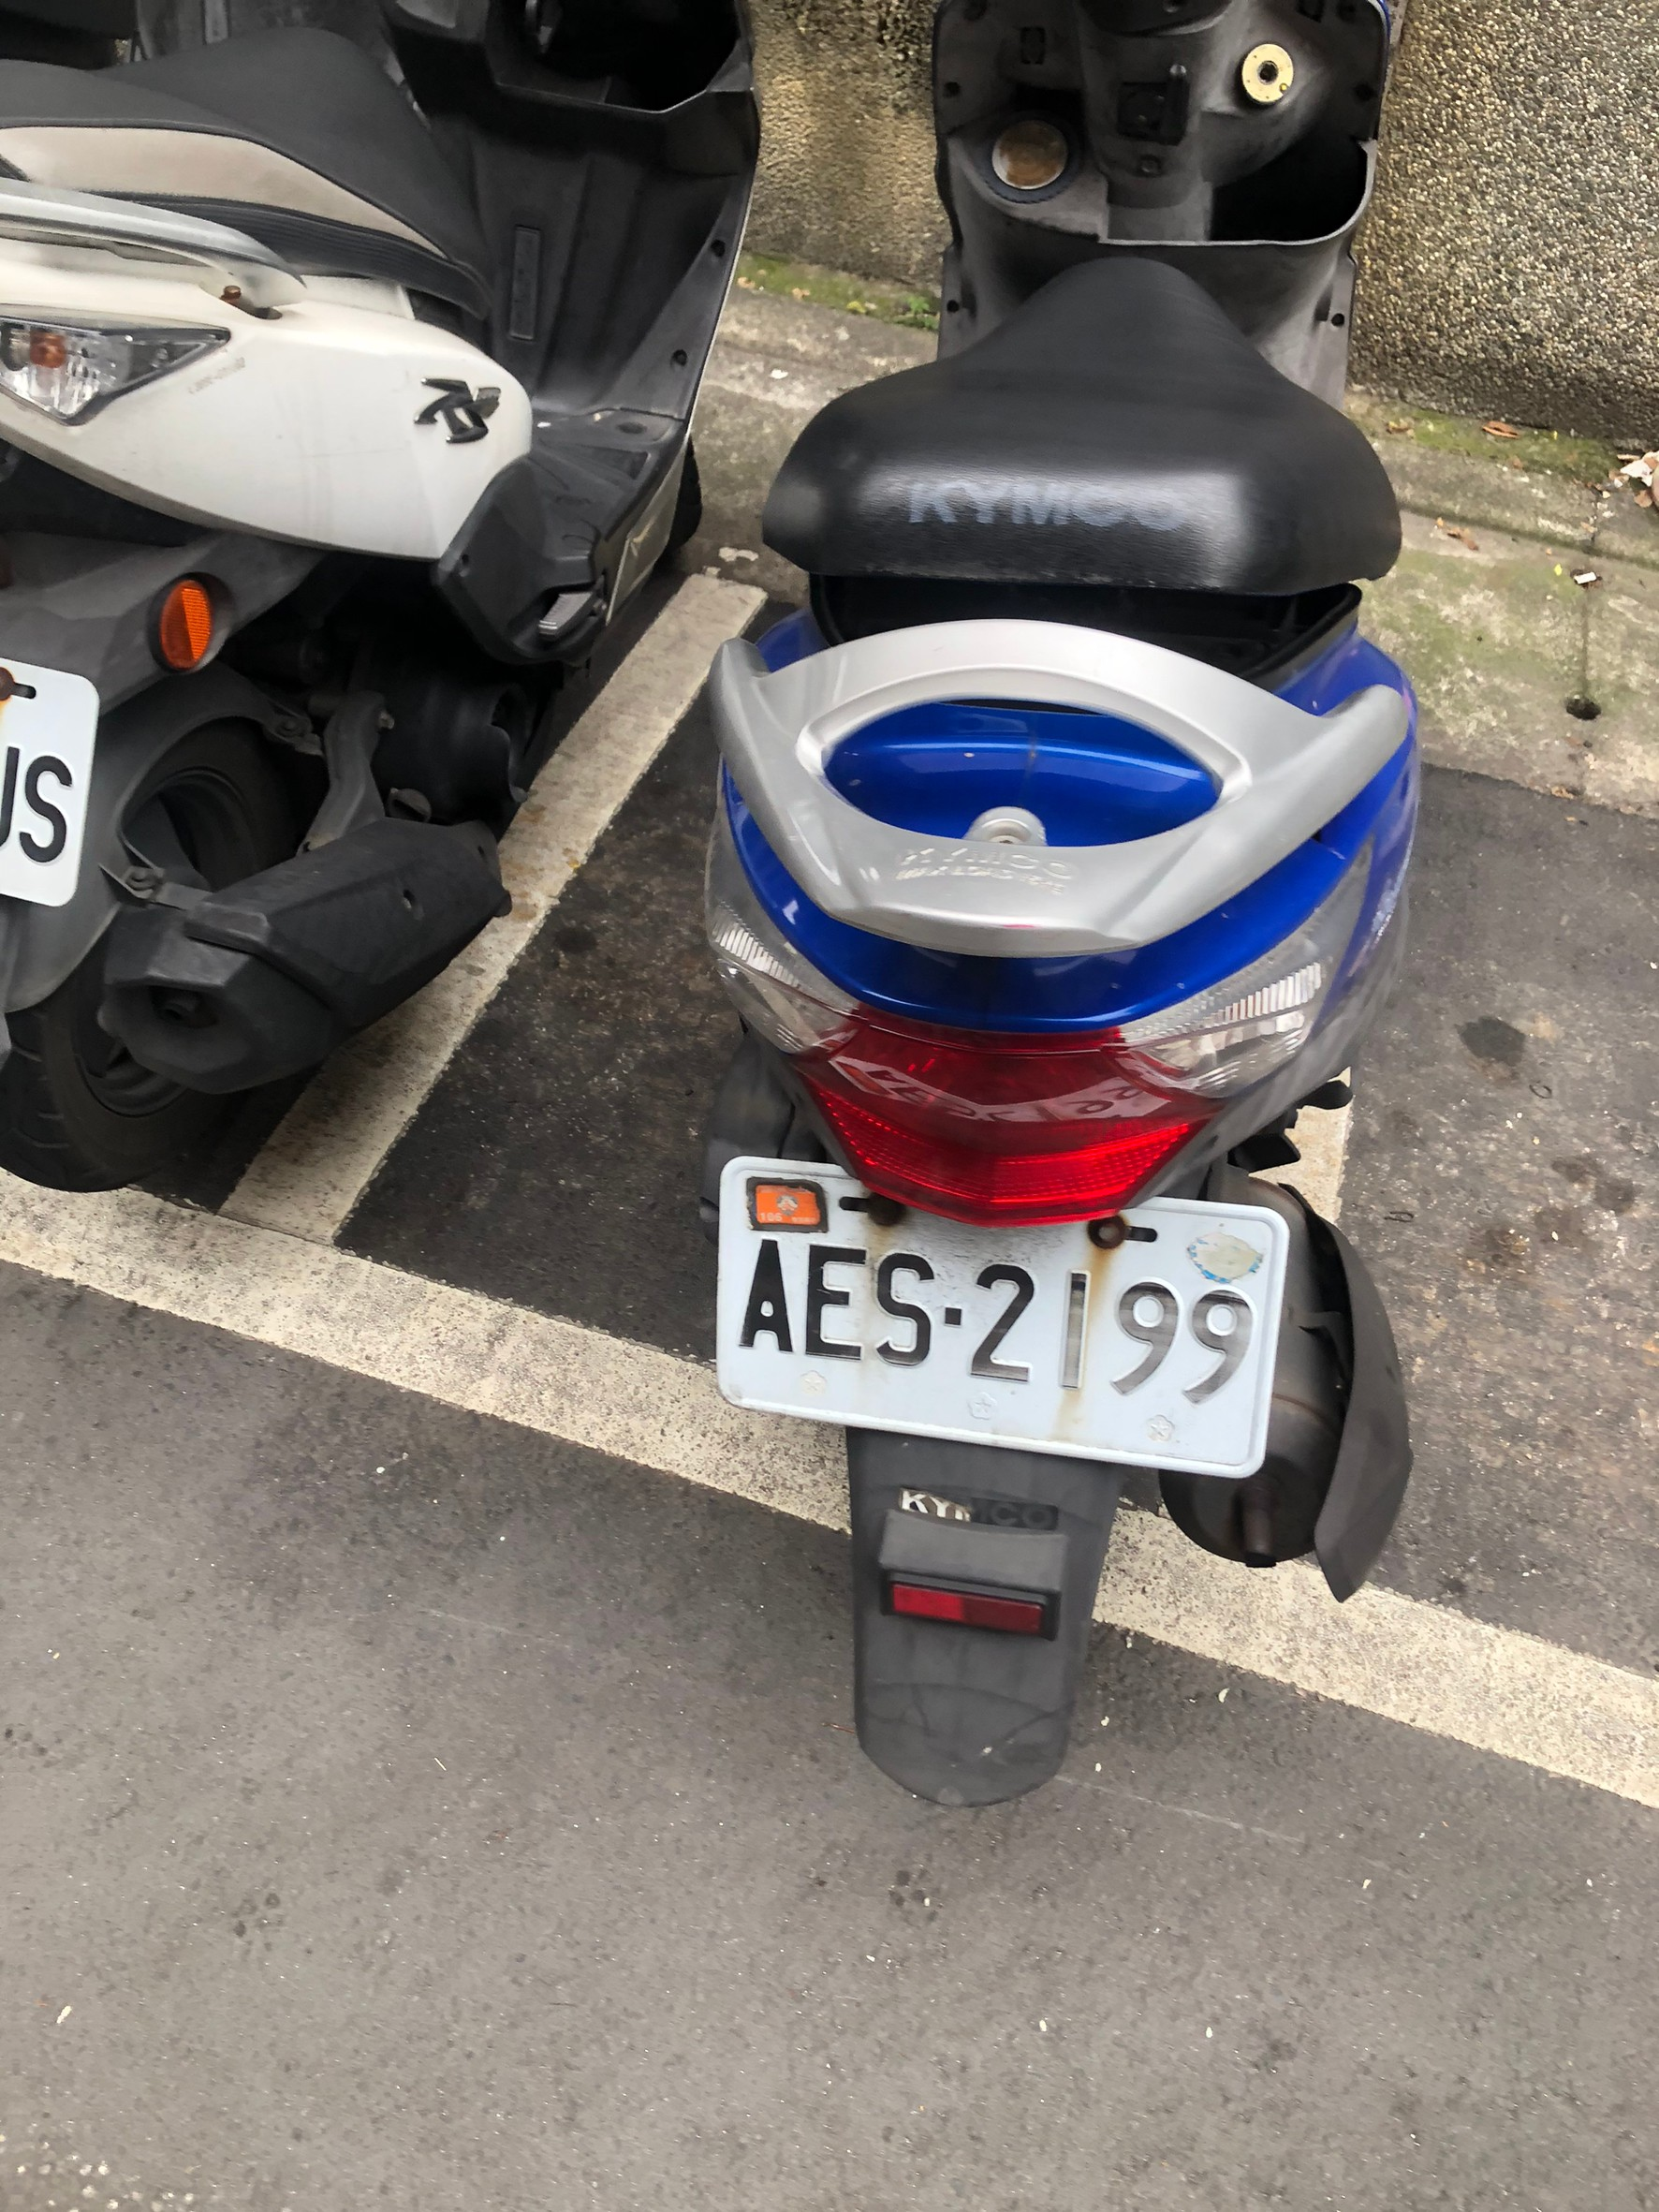LP: (708, 1142, 1279, 1483), (2, 671, 115, 903)
